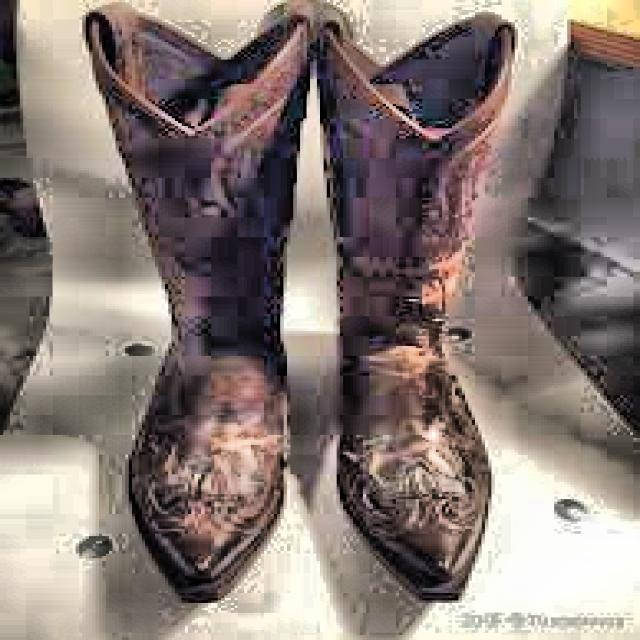shoes: (36, 0, 562, 610)
